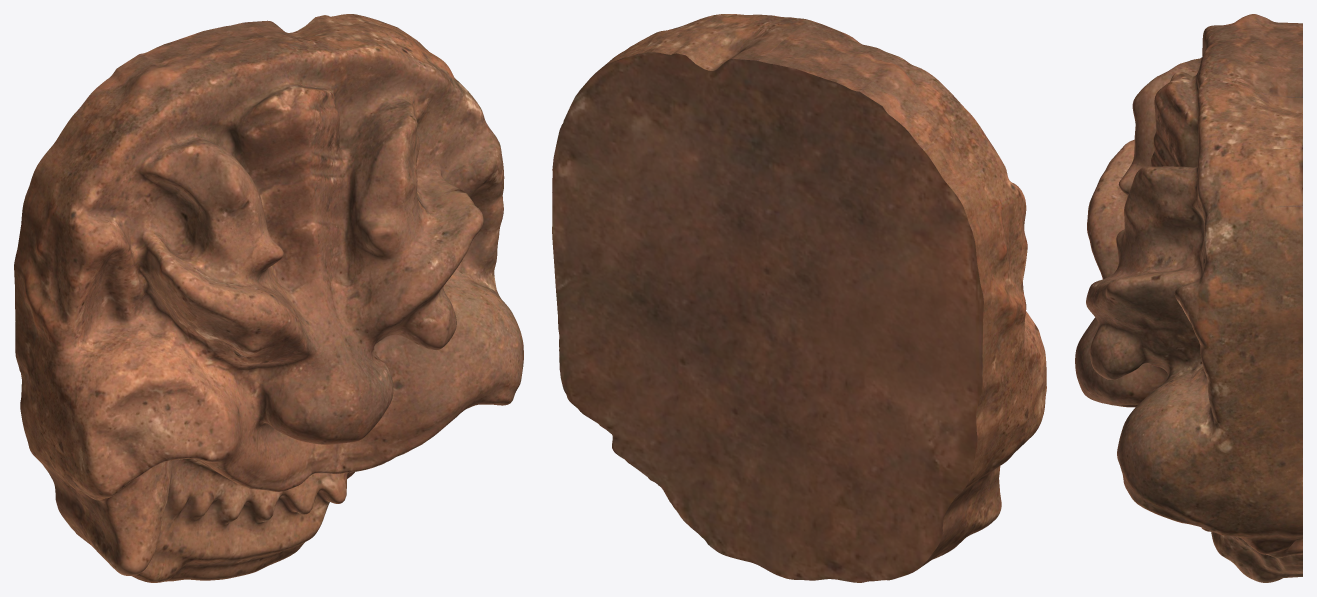
Rendered from MysonMuseum_KALA1_final.glb.
3 renders of one model, left to right at view 1: azimuth 30°, elevation 25°; view 2: azimuth 150°, elevation 25°; view 3: azimuth 270°, elevation 25°, orthographic. The views are drawn at different scales.
Size of the model in its own units: 0.2453 by 0.277 by 0.1119.
1 material, 1 textured.
